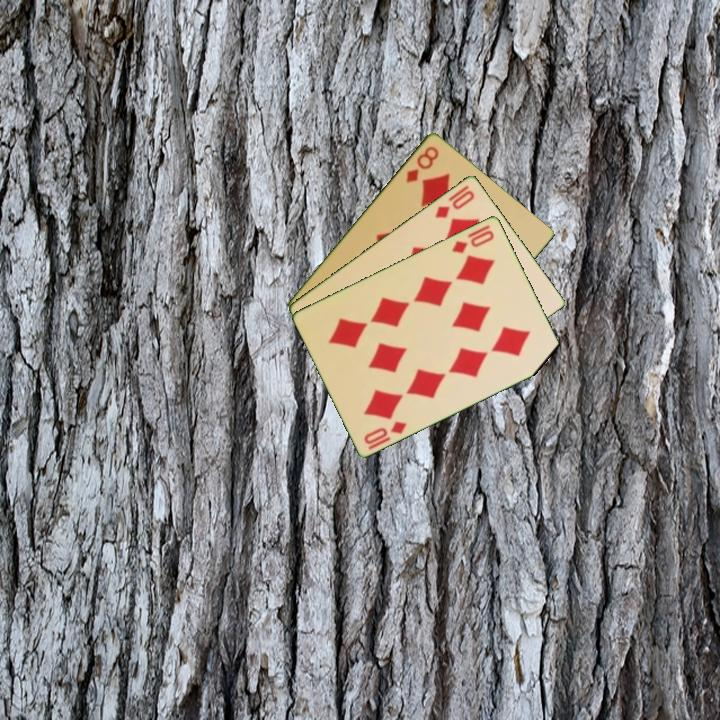10d: (360, 417, 410, 452), (448, 221, 497, 256), (431, 186, 478, 221)
8d: (402, 142, 442, 185)
